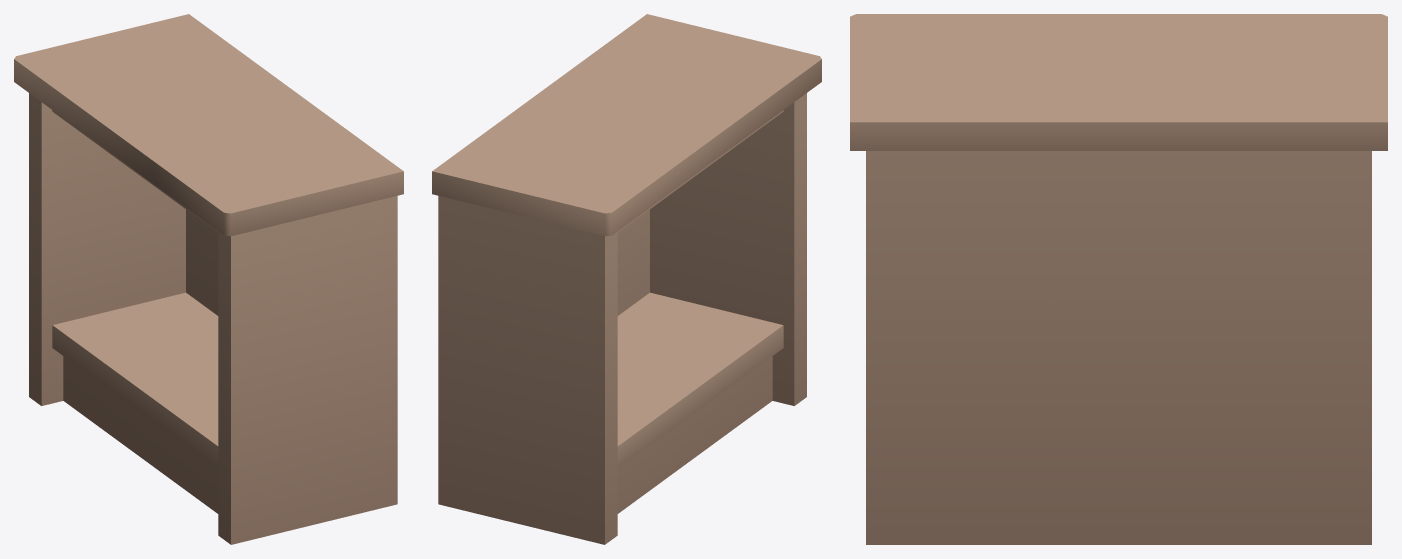
File: cabinet-clothing-low.glb
3 renders of one model, left to right at view 1: azimuth 30°, elevation 25°; view 2: azimuth 150°, elevation 25°; view 3: azimuth 270°, elevation 25°, orthographic. The views are drawn at different scales.
Visible parts, largest first — view 1: cabinet-clothing-low; view 2: cabinet-clothing-low; view 3: cabinet-clothing-low.
Boxes of the visible parts, <box> form: cabinet-clothing-low: <box>14,14,403,544</box>; cabinet-clothing-low: <box>432,14,821,544</box>; cabinet-clothing-low: <box>850,14,1387,544</box>.
Size of the model in its own units: 0.405 by 0.737 by 0.85.
